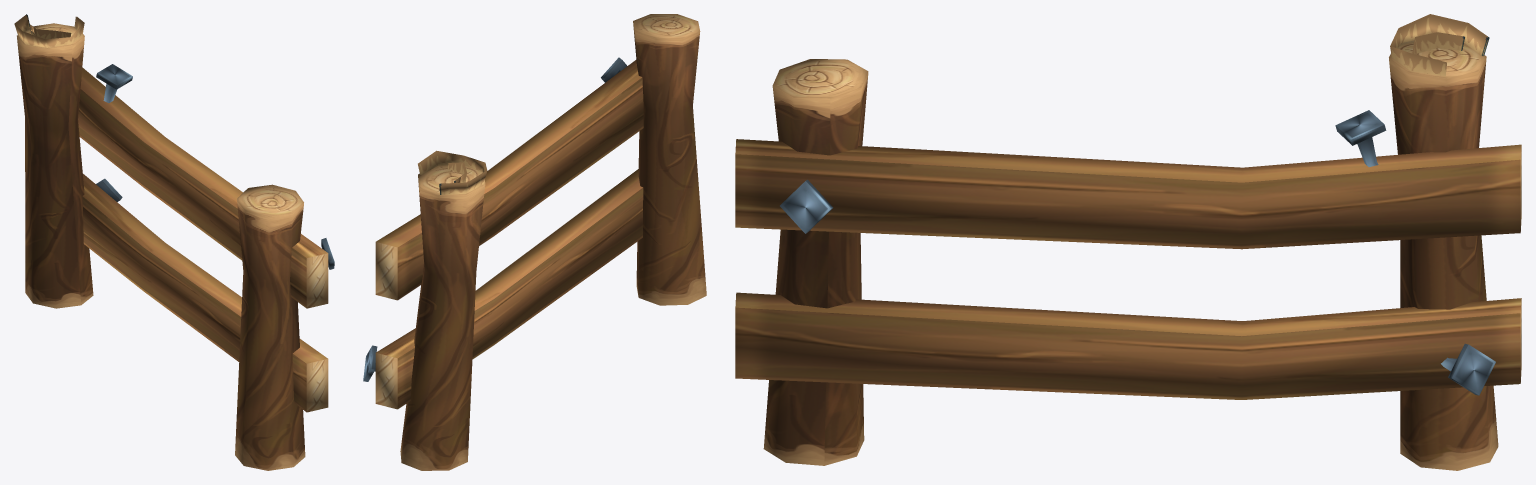
Rendered from fence_01.fbx.
The picture shows the model from 3 angles, left to right: view 1: azimuth 30°, elevation 25°; view 2: azimuth 150°, elevation 25°; view 3: azimuth 270°, elevation 25°; orthographic projection. The views are drawn at different scales.
Visible parts, largest first — view 1: fence_01; view 2: fence_01; view 3: fence_01.
Part boxes in pixels (x1,y1,x2,y2): fence_01: (14,14,334,470); fence_01: (363,14,706,470); fence_01: (735,14,1521,470).
Bounding box in the file's own units: 1.06 × 2.61 × 4.59.
